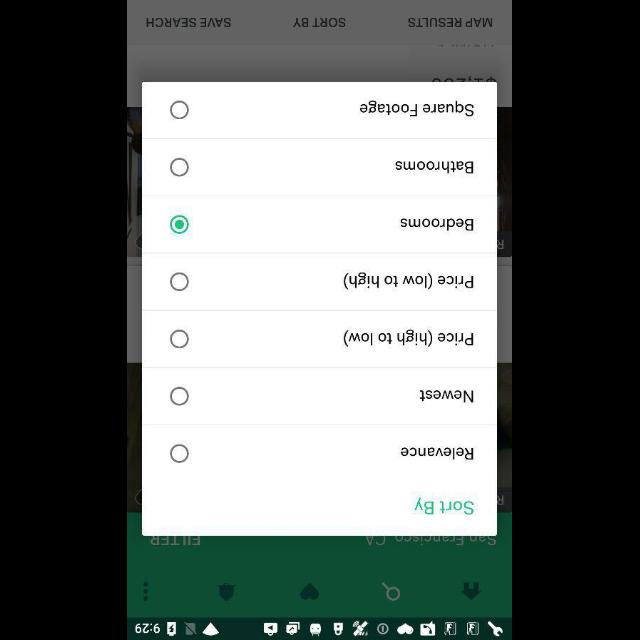checkbox: (170, 445, 190, 463), (171, 214, 189, 233), (171, 330, 189, 348), (171, 273, 189, 291), (171, 158, 189, 176), (171, 101, 189, 119), (171, 388, 189, 404)
panel: (143, 82, 497, 534)
text: (344, 272, 474, 290), (344, 329, 474, 346), (360, 100, 474, 116), (396, 161, 474, 173), (416, 498, 474, 514), (401, 447, 473, 459), (401, 218, 473, 230), (409, 17, 493, 27), (148, 17, 232, 27), (420, 390, 474, 402), (294, 17, 346, 27)
uppertaskbar: (128, 617, 512, 639)
